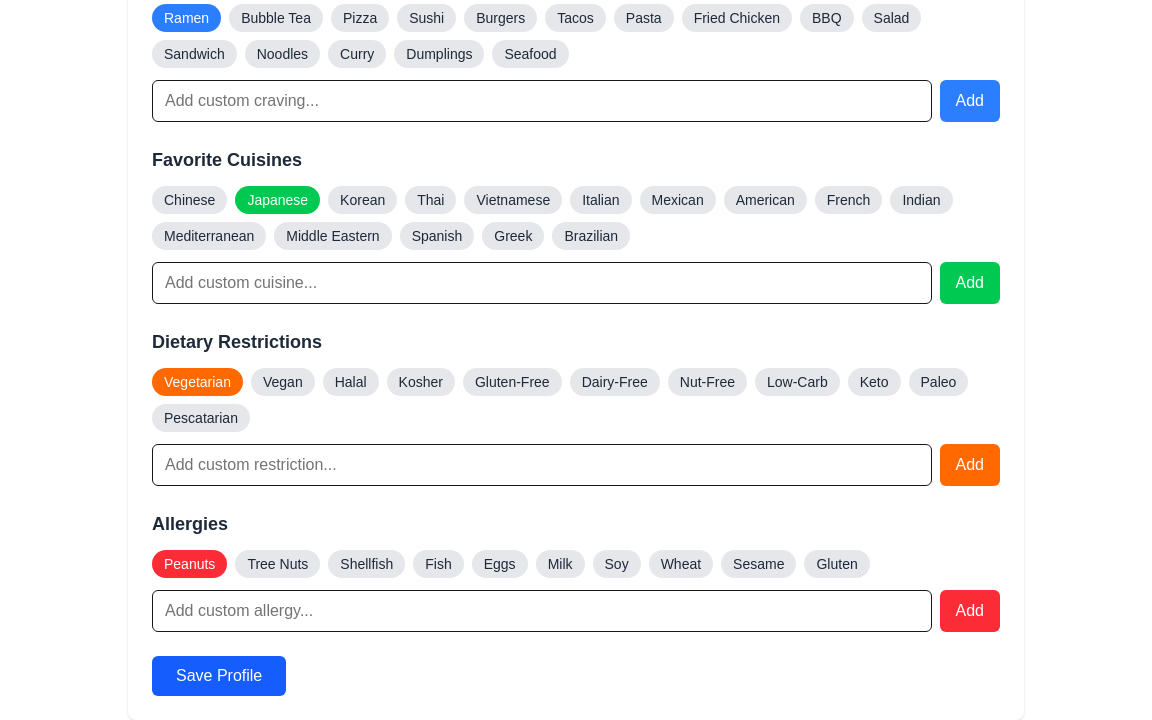
UserProfileForm › handles save error
This screenshot has width=1152, height=720.
(page scrolled)
Click the button "Save Profile" at {"x": 219, "y": 676}, box [152,656,286,696]
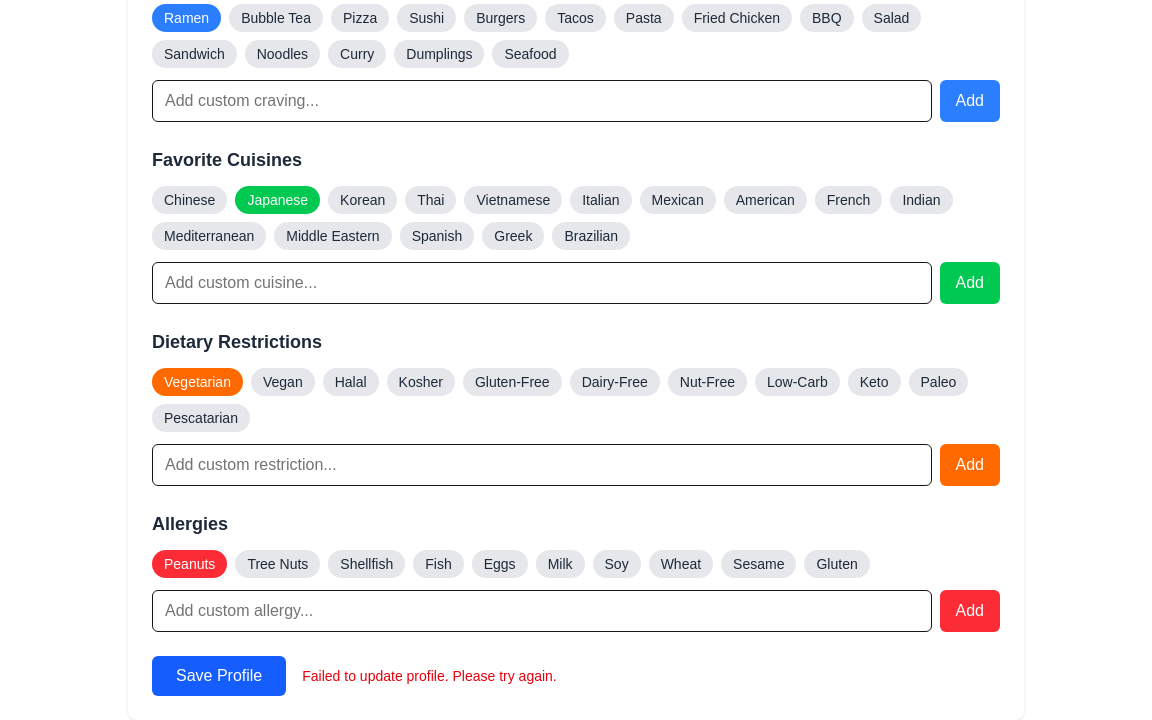
Expected: the text "Failed to update profile. Please try again." is shown, [302,666,557,686]
